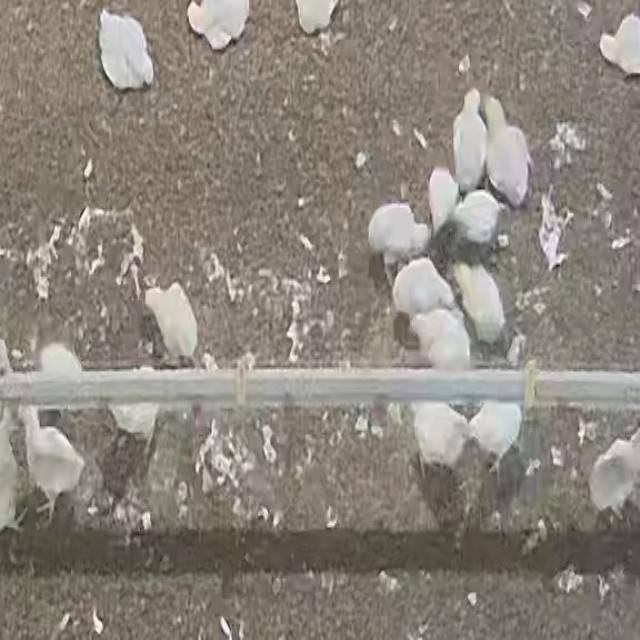chicken: (17, 400, 88, 519), (485, 90, 541, 206), (93, 11, 156, 88), (142, 278, 200, 361), (452, 260, 507, 347), (589, 424, 640, 516), (410, 400, 470, 471), (391, 256, 456, 320), (368, 200, 434, 262), (408, 309, 471, 371), (468, 399, 524, 468), (455, 88, 489, 188), (107, 400, 159, 440), (460, 194, 502, 241), (430, 170, 459, 224)
